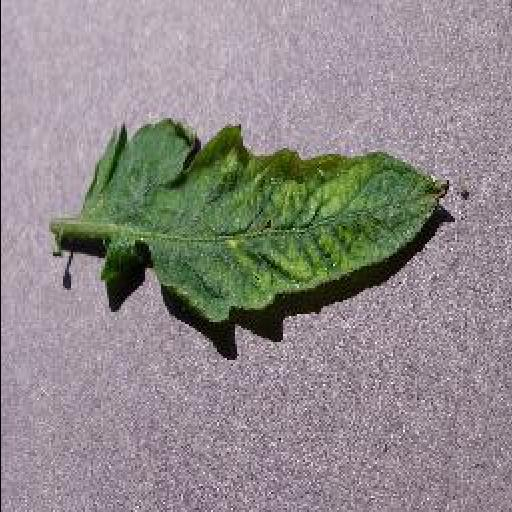Mosaic Virus: (80, 115, 452, 325)
